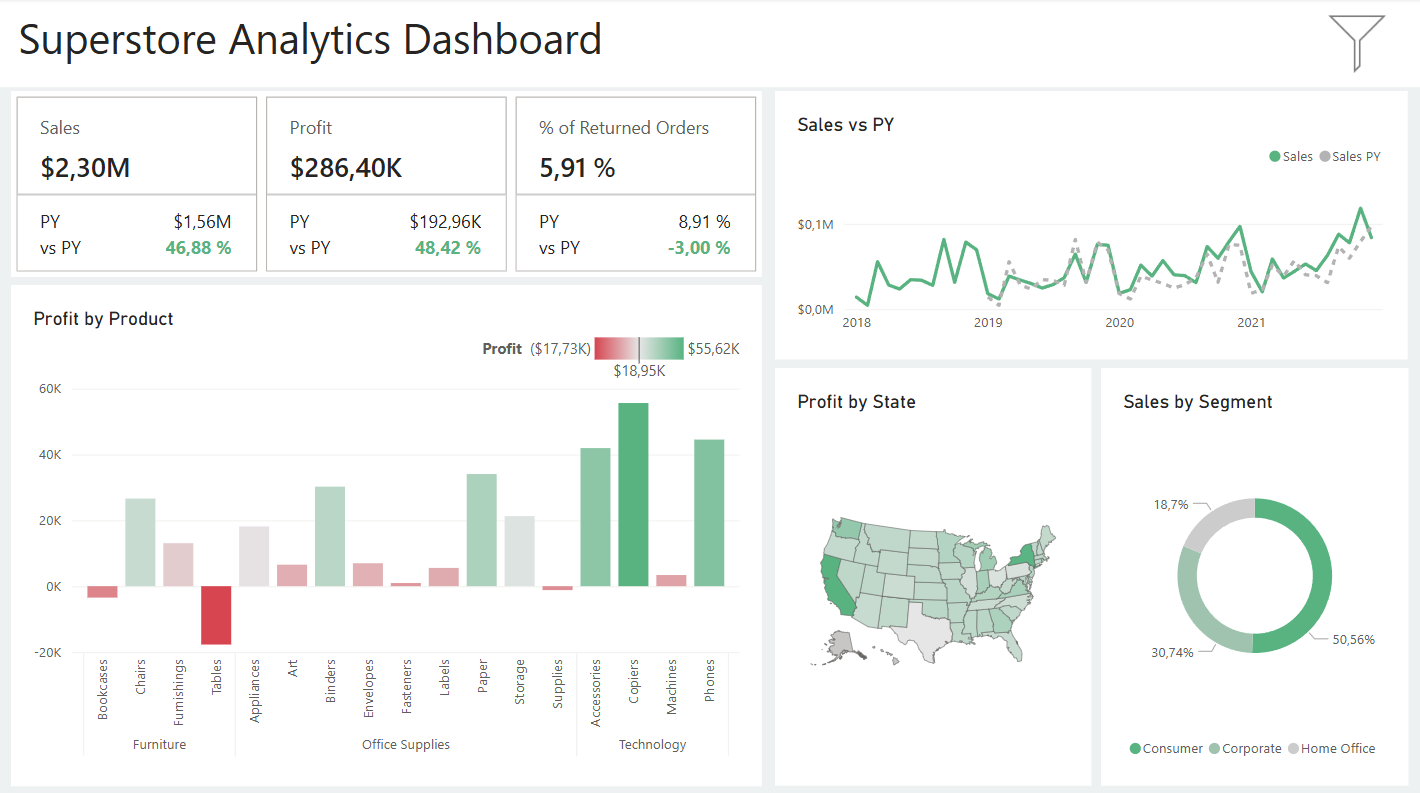

This screenshot's page, from the dashboard's own definition file:
{"tool":"powerbi","page":{"name":"Dashboard","canvas":[1280,720],"ordinal":0},"visuals":[{"type":"cardVisual","fields":{"Data":["Measures Table.Sales","Measures Table.Profit","Measures Table.% of Returned Orders"]},"box":[13.6,83.3,674.3,167.3],"z":0},{"type":"lineChart","title":"Sales vs PY","fields":{"Y":["Measures Table.Sales","Measures Table.Sales PY"],"Category":["Date Table.Start oF Month"]},"box":[699.5,83.6,568.4,240.9],"z":1000},{"type":"columnChart","title":"Profit by Product","fields":{"Category":["Orders.Category","Orders.Sub-Category"],"Y":["Sum(Orders.Profit)"]},"box":[13.6,257.7,674.3,449.5],"z":2000},{"type":"shapeMap","title":"Profit by State","fields":{"Value":["Measures Table.Profit"],"Category":["Orders.State"]},"box":[699.5,332.6,284.2,374.9],"z":3000},{"type":"donutChart","title":"Sales by Segment","fields":{"Y":["Sum(Orders.Sales)"],"Category":["Orders.Segment"]},"box":[991.7,332.6,276.2,374.9],"z":4000},{"type":"textbox","box":[0,0,1280.2,79.9],"z":5000},{"type":"image","title":"filter-icon","box":[1163.5,0,116.7,83.5],"z":6000}]}

Visuals, with their boxes in screenshot pixels (x1, y1, x2, y2), scaled from the page's 1280x720 canvas onto the 1420x793 screenshot:
cardVisual - Measures Table.Sales x Measures Table.Profit: x1=15 y1=92 x2=763 y2=276
"Sales vs PY" lineChart: x1=776 y1=92 x2=1407 y2=357
"Profit by Product" columnChart: x1=15 y1=284 x2=763 y2=779
"Profit by State" shapeMap: x1=776 y1=366 x2=1091 y2=779
"Sales by Segment" donutChart: x1=1100 y1=366 x2=1407 y2=779
textbox: x1=0 y1=0 x2=1419 y2=88
"filter-icon" image: x1=1291 y1=0 x2=1419 y2=92
